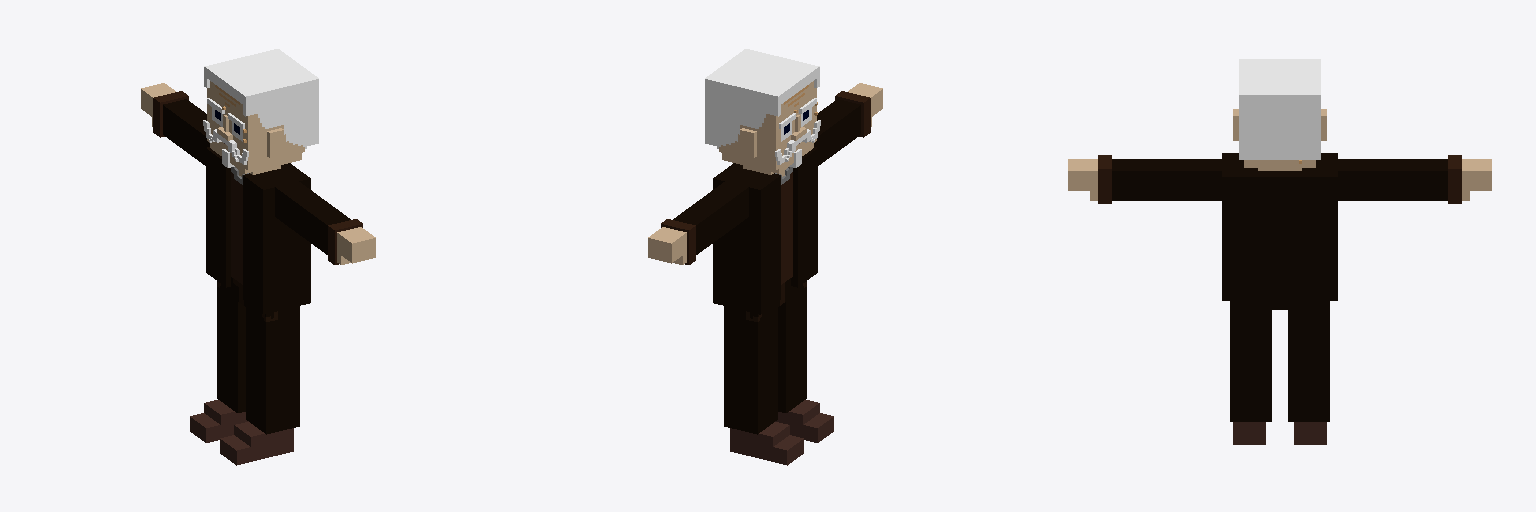
3 renders of one model, left to right at view 1: azimuth 30°, elevation 25°; view 2: azimuth 150°, elevation 25°; view 3: azimuth 270°, elevation 25°, orthographic.
Visible parts, largest first — view 1: object 1; view 2: object 1; view 3: object 1.
Boxes of the visible parts, box(x1,y1,x2,y2) form: object 1: box(141, 49, 375, 465); object 1: box(648, 49, 882, 465); object 1: box(1068, 59, 1491, 444).
Size of the model in its own units: 3.6 by 14.6 by 15.4.
1 materials, 1 textured.